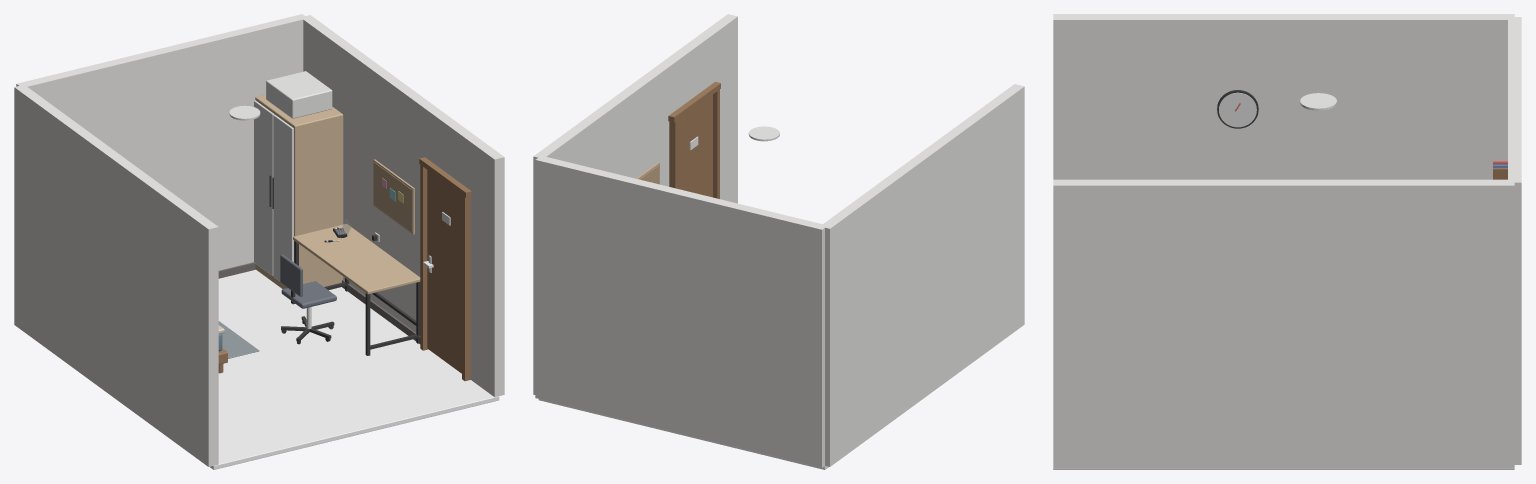
The model's file is kamar_kosan_full.glb.
3 views of the same model, side by side, from view 1: azimuth 30°, elevation 25°; view 2: azimuth 150°, elevation 25°; view 3: azimuth 270°, elevation 25° (orthographic). The views are drawn at different scales.
Parts seen in each view (by area): view 1: Dinding_Kiri, Lantai_Keramik, Dinding_Belakang, Dinding_Kanan, Lemari_Body, Daun_Pintu, Meja_Top, Lemari_Pintu_Belakang, Lemari_Pintu_Depan, Kotak_Penyimpanan_Atas, Kusen_Pintu_Kiri, Papan_Memo_Gabus (+6 smaller); view 2: Dinding_Belakang, Dinding_Kiri, Dinding_Kanan, Daun_Pintu, Kusen_Pintu_Kiri, Kusen_Pintu_Kanan, Lantai_Keramik, Kusen_Pintu_Atas; view 3: Dinding_Kanan, Dinding_Kiri, Dinding_Belakang, Jam_Dial, Lantai_Keramik, Lampu_Plafon_Rim.
Part boxes in pixels (box(x1,y1,x2,y2)): Dinding_Kiri: box(14, 85, 218, 466); Lantai_Keramik: box(210, 269, 499, 469); Dinding_Belakang: box(16, 14, 307, 270); Dinding_Kanan: box(301, 15, 504, 397); Lemari_Body: box(255, 94, 343, 288); Daun_Pintu: box(427, 170, 461, 373); Meja_Top: box(293, 223, 420, 294); Lemari_Pintu_Belakang: box(254, 100, 274, 275); Lemari_Pintu_Depan: box(273, 114, 293, 281); Kotak_Penyimpanan_Atas: box(266, 71, 332, 118); Kusen_Pintu_Kiri: box(462, 195, 470, 381); Papan_Memo_Gabus: box(374, 162, 412, 231); Dinding_Belakang: box(535, 156, 826, 467); Dinding_Kiri: box(820, 84, 1024, 466); Dinding_Kanan: box(533, 14, 737, 394); Daun_Pintu: box(678, 94, 712, 197); Kusen_Pintu_Kiri: box(713, 89, 719, 198); Kusen_Pintu_Kanan: box(669, 119, 678, 188); Lantai_Keramik: box(538, 399, 828, 469); Kusen_Pintu_Atas: box(668, 81, 720, 122); Dinding_Kanan: box(1053, 179, 1514, 467); Dinding_Kiri: box(1053, 14, 1514, 179); Dinding_Belakang: box(1508, 17, 1521, 464); Jam_Dial: box(1219, 92, 1256, 127); Lantai_Keramik: box(1053, 468, 1514, 469); Lampu_Plafon_Rim: box(1300, 93, 1336, 110).
Size of the model in its own units: 3.52 by 2.75 by 4.06.
